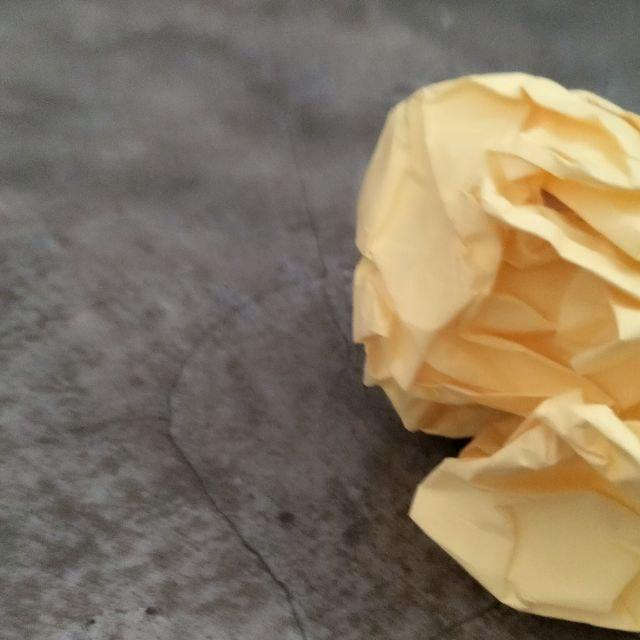paper: (345, 45, 640, 640)
